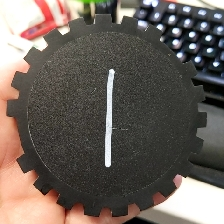gear: (5, 12, 209, 217)
missing: (144, 23, 198, 79), (5, 97, 35, 175)
